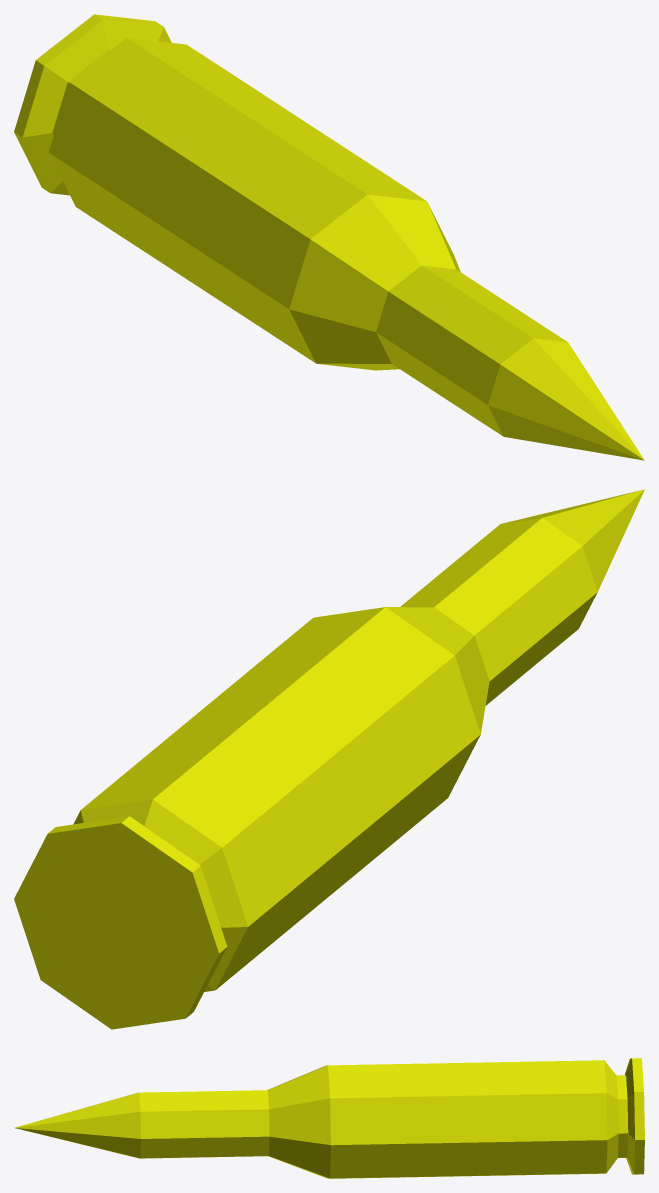
File: projetil.fbx
The picture shows the model from 3 angles, top to bottom: view 1: azimuth 30°, elevation 25°; view 2: azimuth 150°, elevation 25°; view 3: azimuth 270°, elevation 25°; orthographic projection. The views are drawn at different scales.
Parts seen in each view (by area): view 1: projetil; view 2: projetil; view 3: projetil.
Part boxes in pixels (<box>): projetil: <box>14,14,644,460</box>; projetil: <box>14,489,644,1029</box>; projetil: <box>14,1058,644,1178</box>.
Bounding box in the file's own units: 8.61 × 7.77 × 39.08.
